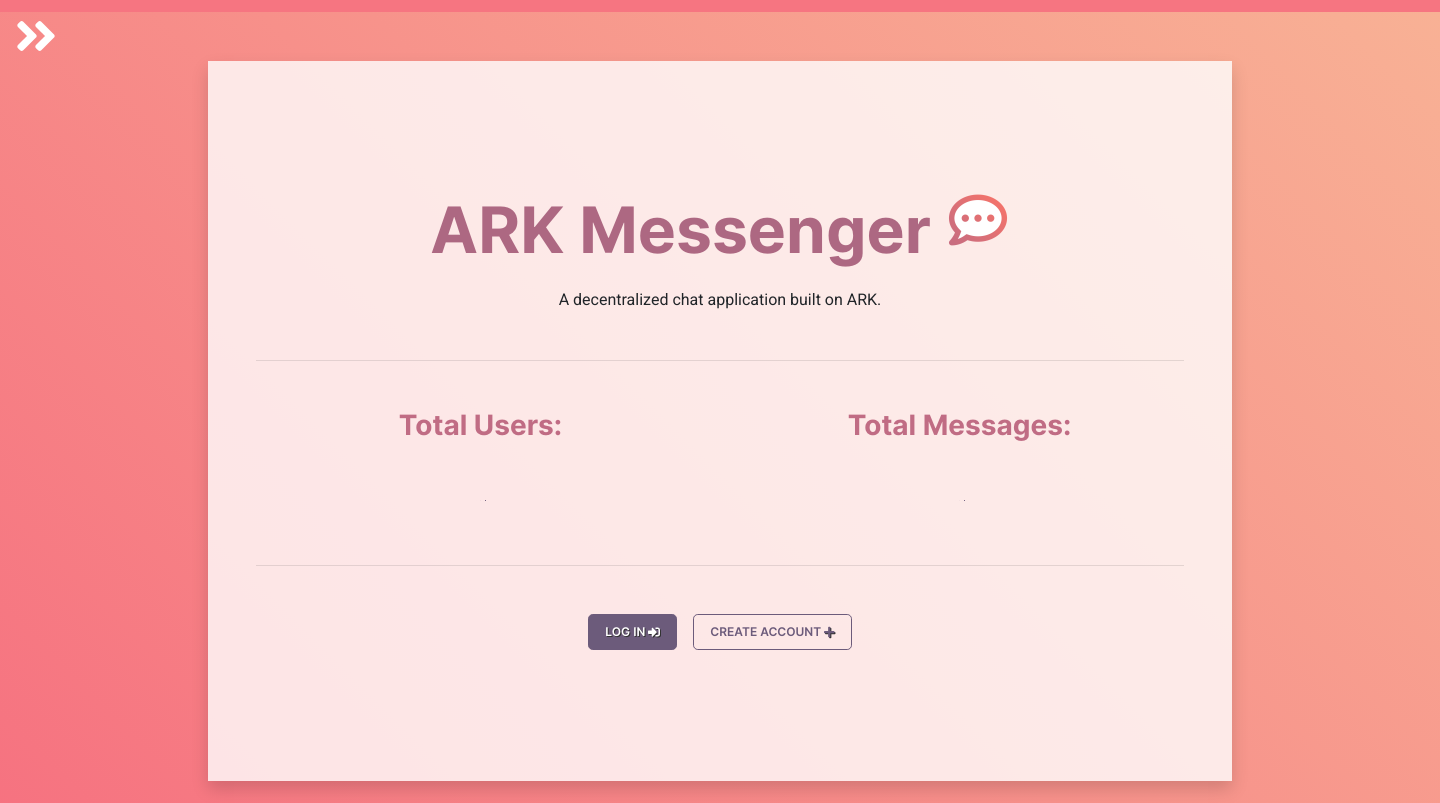
it: Home › should navigate to the 'Login' page
This screenshot has width=1440, height=803.
Click the link "Log In" at (633,632), box [588,614,677,650]
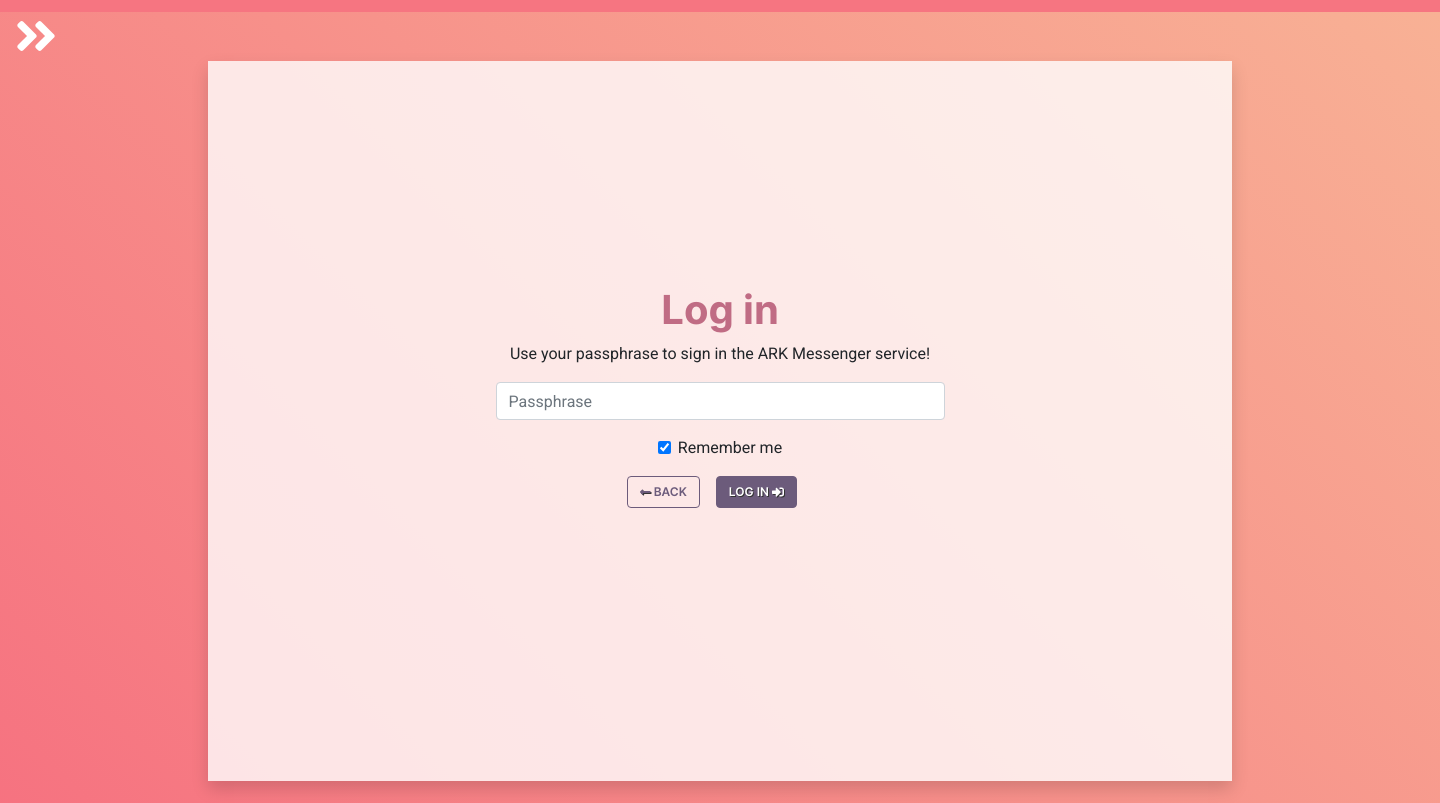
expect the heading "Log in" is shown: met, box [661,285,779,334]
